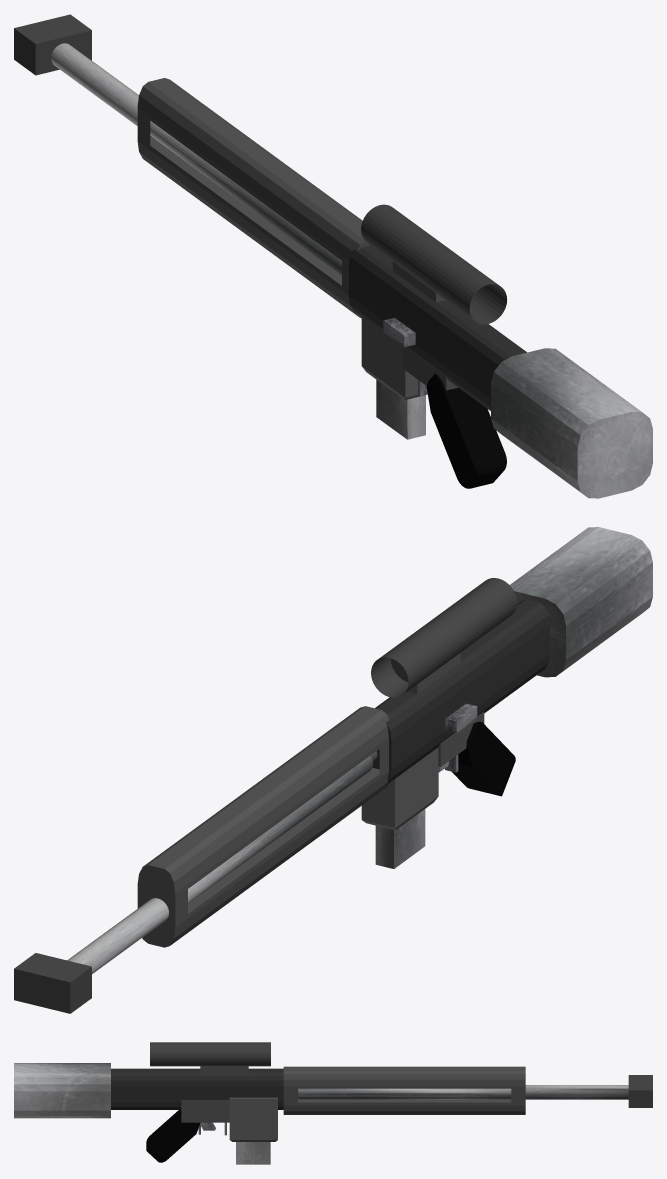
Rendered from sniperfinally5.fbx.
3 views of the same model, one above another, from view 1: azimuth 30°, elevation 25°; view 2: azimuth 150°, elevation 25°; view 3: azimuth 270°, elevation 25° (orthographic). The views are drawn at different scales.
Parts seen in each view (by area): view 1: heat_grip, stock, upper_body, scope, barrel, grip, muzzle_brake, mag_insert_hole, mag, lower_1; view 2: heat_grip, stock, upper_body, scope, barrel, muzzle_brake, mag_insert_hole, grip, mag, lower_1; view 3: heat_grip, upper_body, stock, barrel, scope, mag_insert_hole, grip, lower_1, muzzle_brake, mag, scope_mount.
Part boxes in pixels (left/top/right/bottom): heat_grip: left=137, top=78, right=370, bottom=318; stock: left=491, top=348, right=652, bottom=498; upper_body: left=348, top=245, right=526, bottom=410; scope: left=361, top=204, right=507, bottom=324; barrel: left=51, top=43, right=341, bottom=275; grip: left=426, top=373, right=506, bottom=488; muzzle_brake: left=14, top=14, right=91, bottom=75; mag_insert_hole: left=361, top=317, right=427, bottom=399; mag: left=376, top=380, right=425, bottom=439; lower_1: left=402, top=346, right=457, bottom=390; heat_grip: left=137, top=706, right=389, bottom=947; stock: left=510, top=527, right=652, bottom=677; upper_body: left=372, top=600, right=549, bottom=784; scope: left=371, top=578, right=516, bottom=697; barrel: left=67, top=755, right=372, bottom=973; muzzle_brake: left=14, top=953, right=91, bottom=1013; mag_insert_hole: left=361, top=747, right=438, bottom=830; grip: left=452, top=721, right=515, bottom=796; mag: left=375, top=809, right=425, bottom=868; lower_1: left=438, top=711, right=484, bottom=766; heat_grip: left=283, top=1066, right=525, bottom=1114; upper_body: left=111, top=1068, right=283, bottom=1109; stock: left=14, top=1063, right=110, bottom=1118; barrel: left=298, top=1085, right=628, bottom=1099; scope: left=150, top=1042, right=270, bottom=1066; mag_insert_hole: left=229, top=1097, right=277, bottom=1141; grip: left=146, top=1110, right=200, bottom=1162; lower_1: left=181, top=1100, right=229, bottom=1122; muzzle_brake: left=628, top=1075, right=652, bottom=1107; mag: left=236, top=1142, right=270, bottom=1164; scope_mount: left=200, top=1066, right=248, bottom=1074.
Size of what is drawn, in the model's own units: 40 by 107 by 528.
16 materials, 8 textured.
